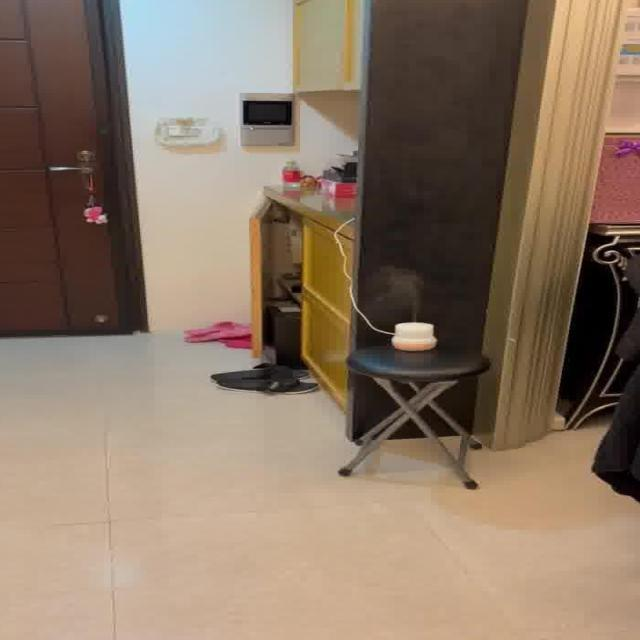fire: (369, 264, 432, 318)
